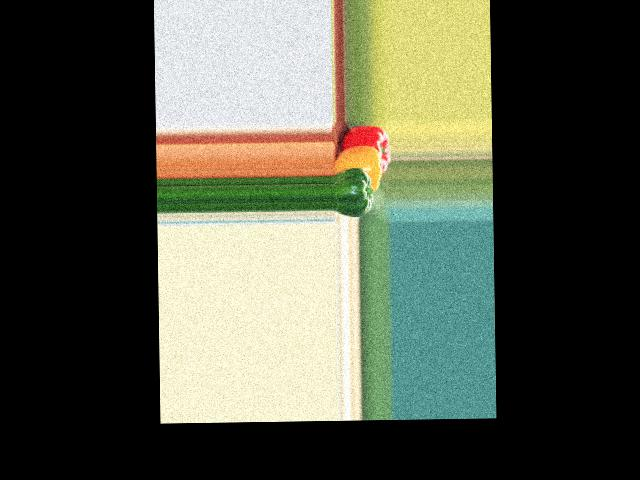bell_pepper: (334, 126, 390, 174)
